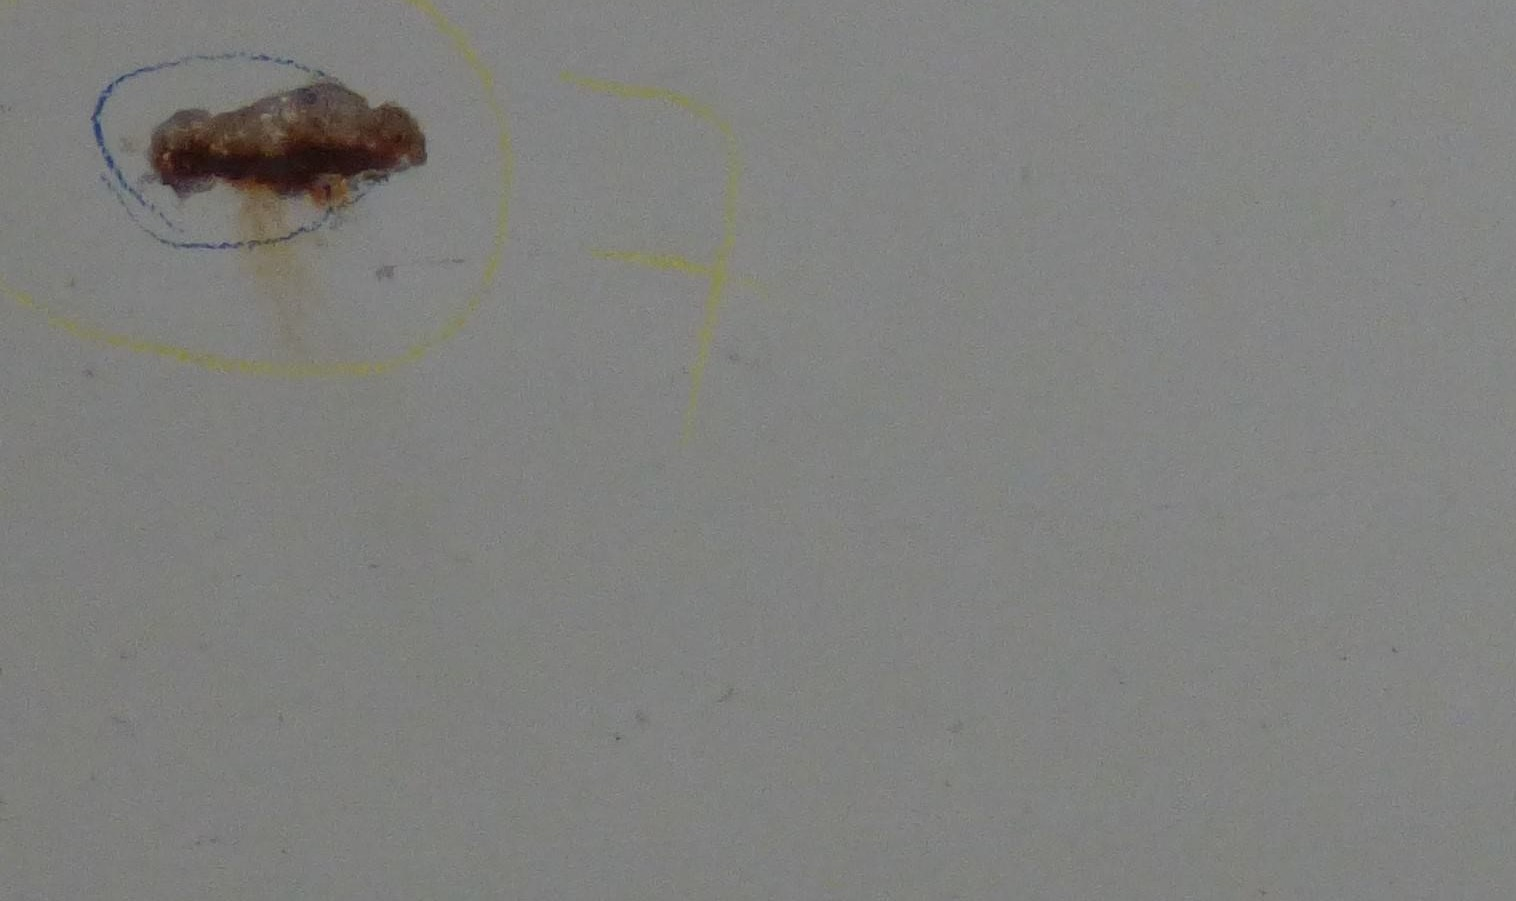Exposed reinforcement: (169, 145, 374, 178)
Spalling: (147, 82, 428, 202)
